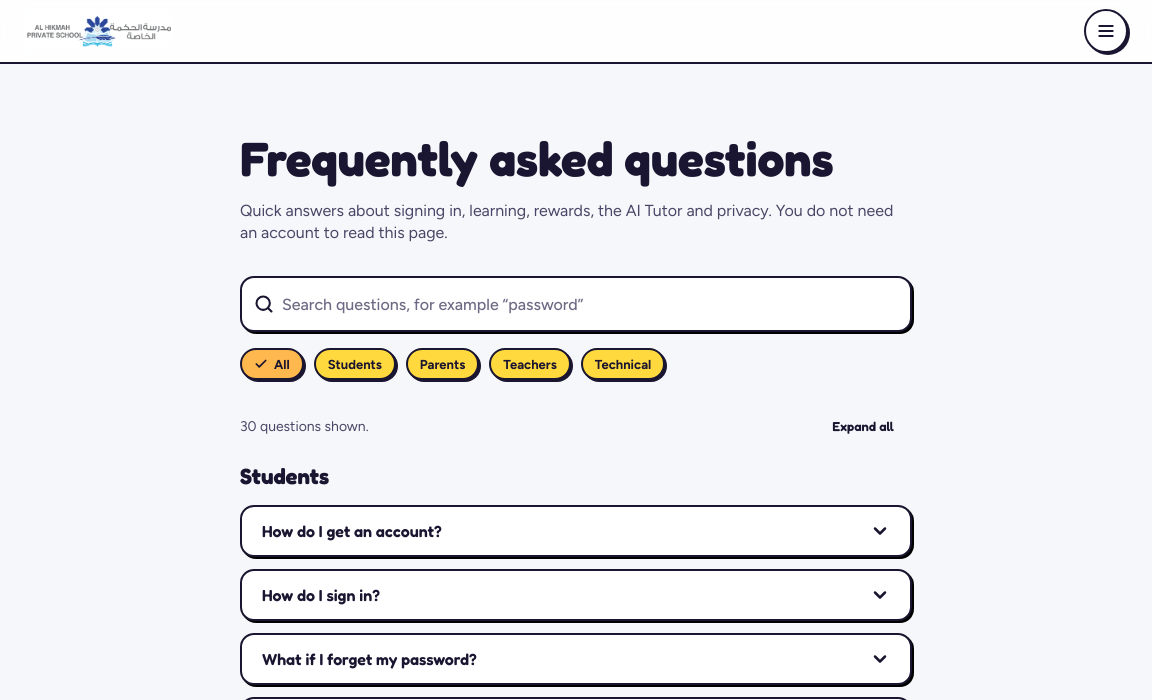
Test: PUB-09: FaqPage (SH-07) › Expand all opens every visible answer and Collapse all closes them
The width and height of the screenshot is (1152, 700).
What coordinates should you click on to do the following:
click the button "Technical"
I would click on:
 (623, 364)
Its box is [583,350,663,378].
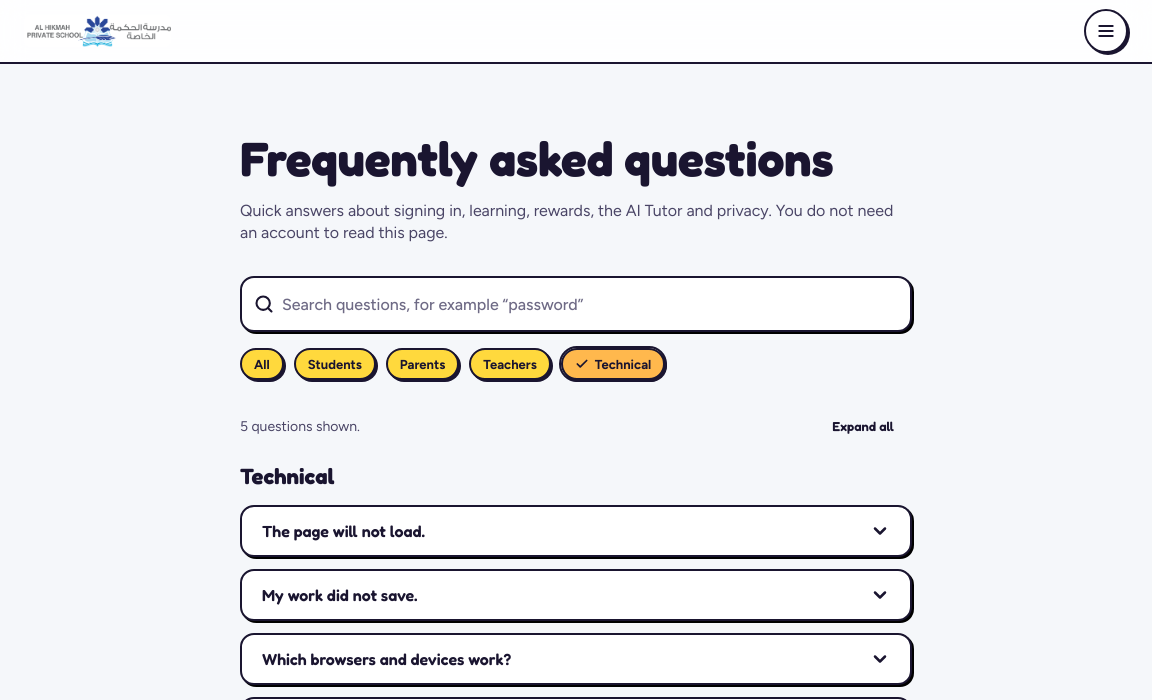
What coordinates should you click on to do the following:
click the button "Expand all"
I would click on:
 (863, 426)
Its box is [814,408,912,444].
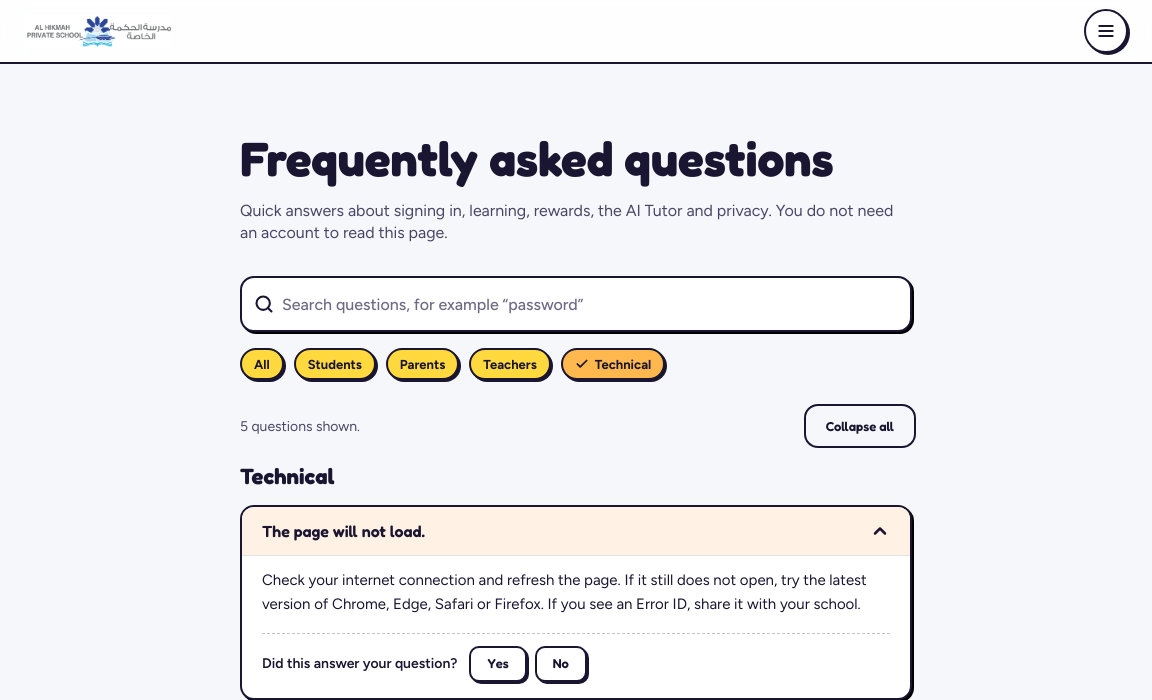
expect the button "The page will not load." is expanded: met, box [242,507,910,555]
What coordinates should you click on to do the following:
click the button "Collapse all"
I would click on:
 (860, 426)
Its box is [808,408,912,444].
(page scrolled)
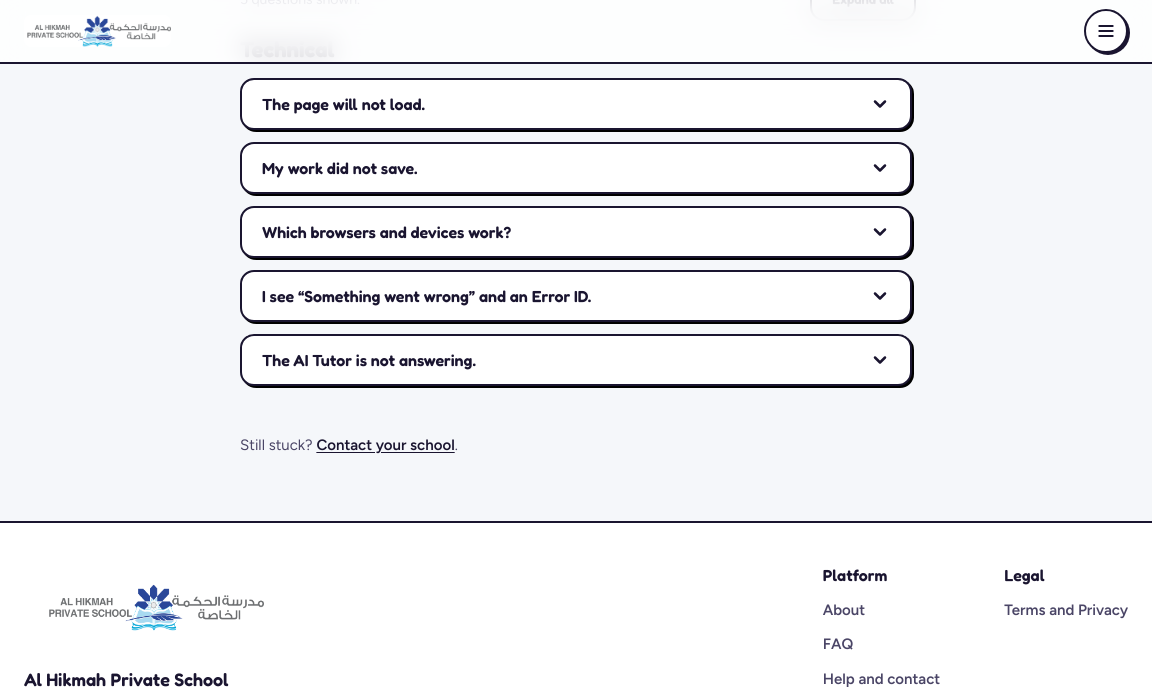
expect the button "The page will not load." is collapsed: met, box [242,80,910,128]
expect the button "My work did not save." is collapsed: met, box [242,144,910,192]
expect the button "Which browsers and devices work?" is collapsed: met, box [242,208,910,256]
